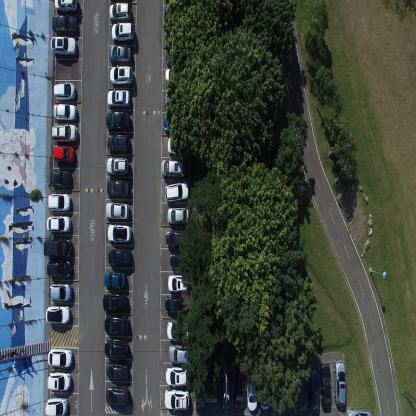car: (50, 34, 77, 57), (43, 237, 72, 258), (334, 359, 346, 407), (165, 180, 189, 204), (319, 364, 332, 408), (164, 388, 190, 410), (51, 122, 77, 144), (51, 14, 78, 35), (106, 223, 132, 244), (46, 371, 72, 392), (45, 304, 71, 325), (46, 257, 72, 278), (164, 90, 188, 112), (109, 64, 133, 86), (106, 110, 130, 132), (105, 200, 130, 221), (107, 247, 132, 268), (104, 314, 129, 335), (103, 338, 128, 359), (160, 158, 186, 178), (166, 136, 192, 156), (102, 293, 128, 313), (47, 347, 73, 367), (309, 370, 320, 416), (296, 373, 308, 415), (166, 320, 191, 340), (168, 344, 194, 363), (165, 229, 191, 248), (163, 114, 189, 133), (111, 22, 134, 43), (105, 384, 128, 405), (165, 295, 189, 315), (165, 67, 189, 87), (108, 2, 132, 22), (106, 179, 130, 199), (246, 370, 257, 412), (107, 133, 129, 154), (165, 366, 188, 386), (107, 88, 130, 108), (106, 156, 129, 176), (103, 270, 126, 290), (53, 82, 76, 102), (166, 206, 190, 225), (53, 102, 77, 121), (195, 374, 206, 415), (106, 361, 128, 381), (45, 396, 68, 415), (48, 282, 72, 300), (47, 214, 71, 232), (47, 192, 71, 210), (52, 146, 76, 164), (260, 368, 270, 410), (221, 368, 231, 410), (208, 368, 218, 410), (109, 44, 131, 63), (168, 252, 191, 270), (165, 47, 188, 65), (49, 170, 72, 188), (233, 368, 243, 409), (167, 274, 189, 292), (54, 0, 77, 14), (347, 408, 372, 415)
